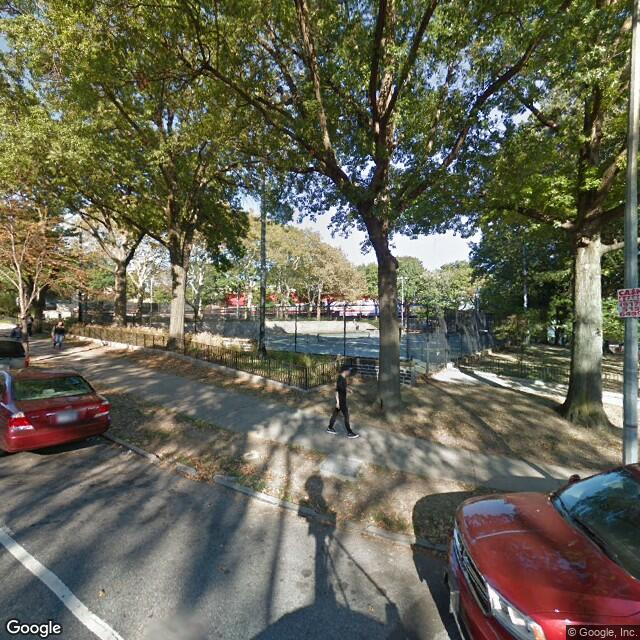litter: (124, 448, 134, 457), (97, 588, 105, 597)
